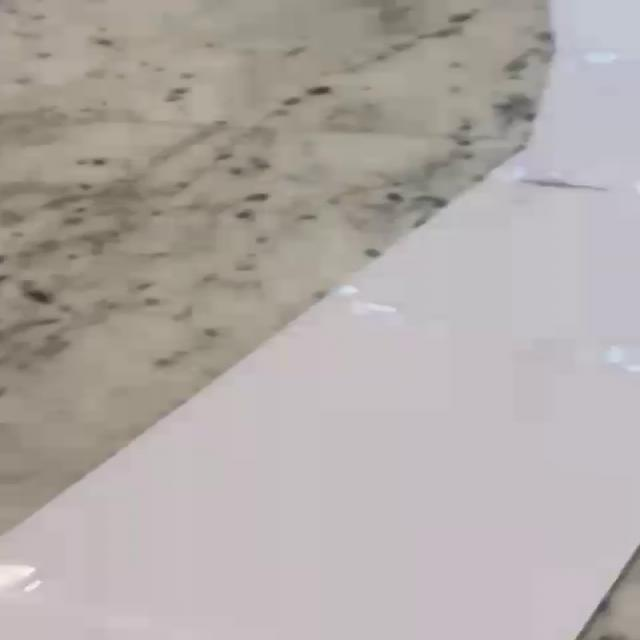road: (0, 0, 640, 640)
